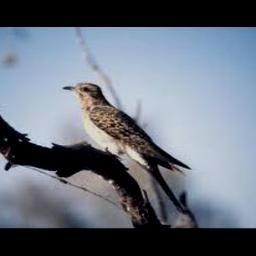Cuckoo: (63, 83, 191, 213)
